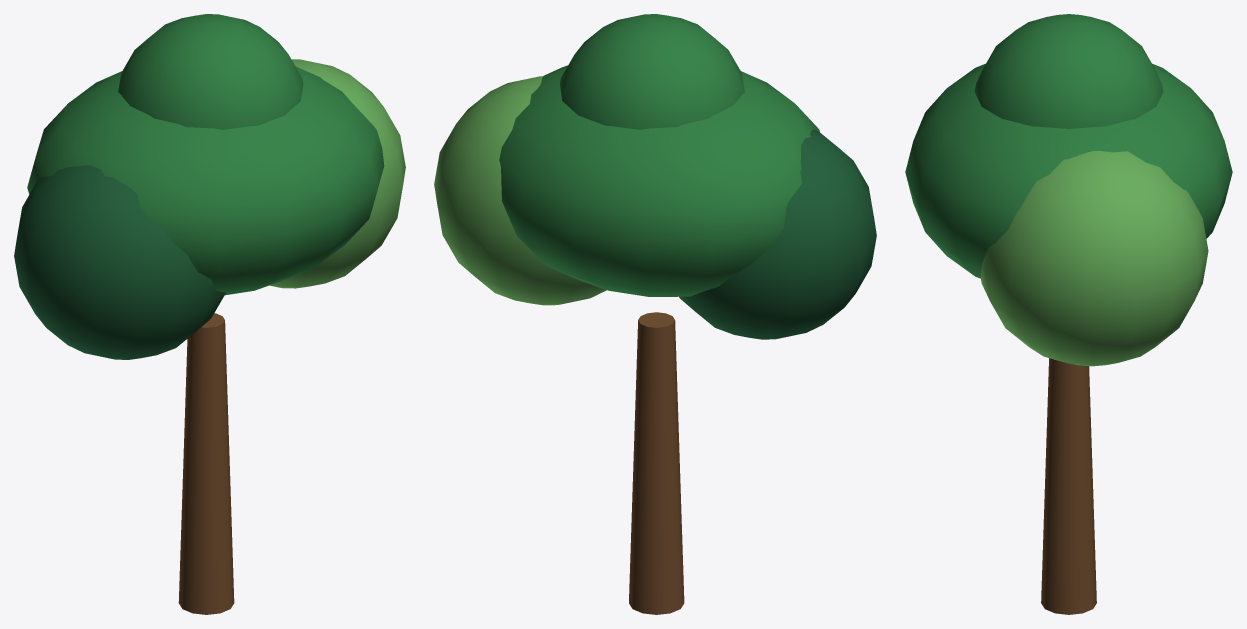
3 renders of one model, left to right at view 1: azimuth 30°, elevation 25°; view 2: azimuth 150°, elevation 25°; view 3: azimuth 270°, elevation 25°, orthographic.
Visible parts, largest first — view 1: shade-tree; view 2: shade-tree; view 3: shade-tree.
Part boxes in pixels (left/top/right/bottom): shade-tree: left=14, top=14, right=405, bottom=614; shade-tree: left=434, top=14, right=876, bottom=614; shade-tree: left=905, top=14, right=1232, bottom=614.
Bounding box in the file's own units: 1.94 × 2.76 × 1.41.
